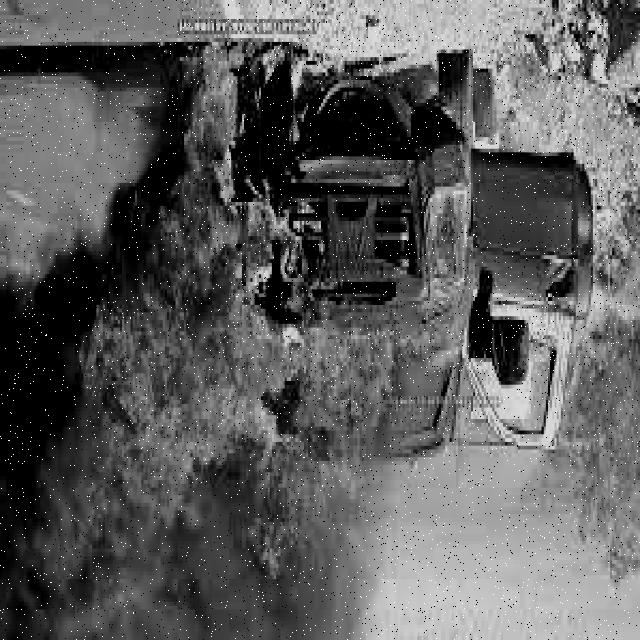api: (54, 47, 412, 607)
